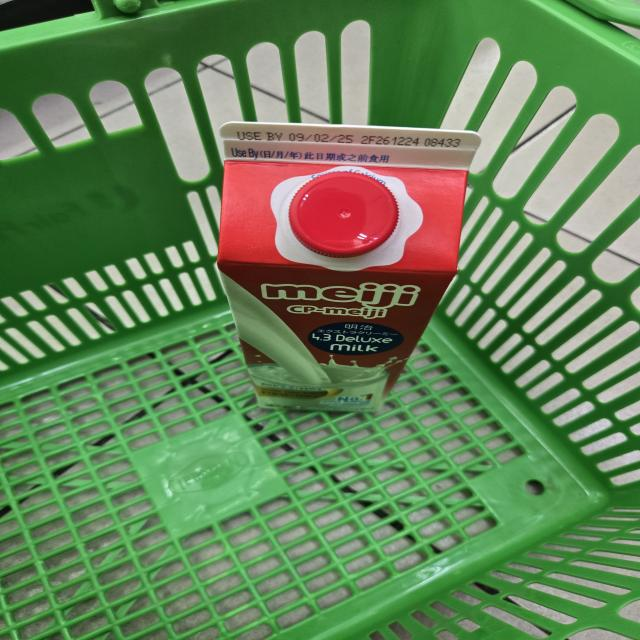milk: (214, 119, 484, 416)
